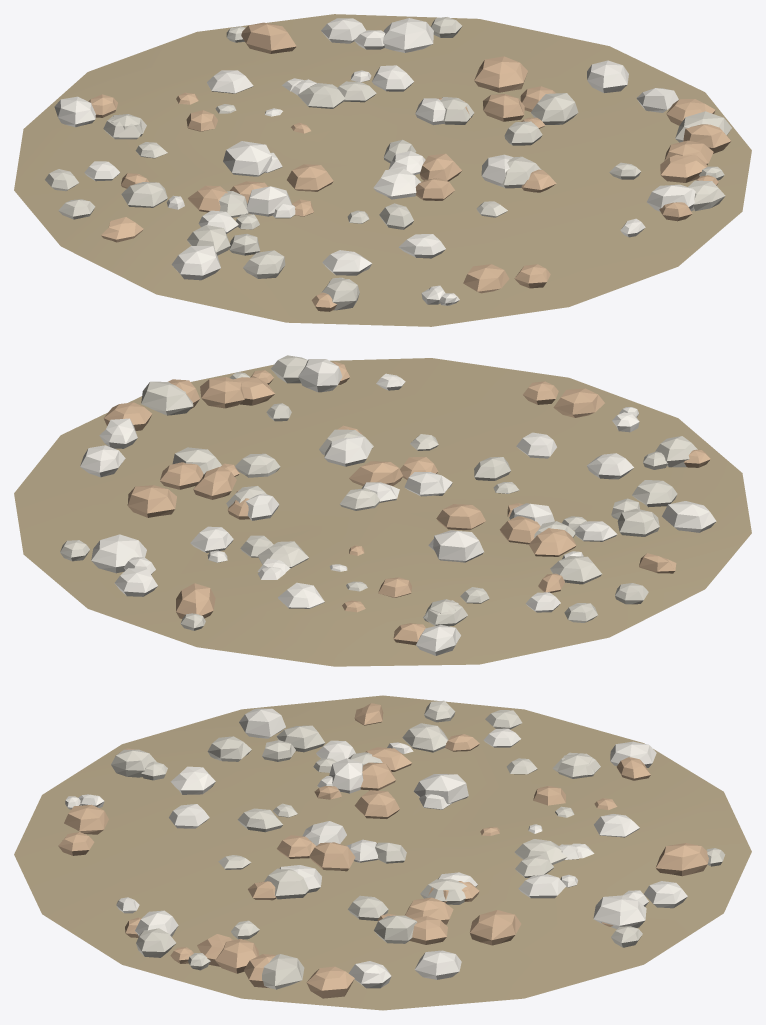
Rendered from lake-quartz-shallows-0.glb.
The picture shows the model from 3 angles, top to bottom: view 1: azimuth 30°, elevation 25°; view 2: azimuth 150°, elevation 25°; view 3: azimuth 270°, elevation 25°; orthographic projection.
Parts seen in each view (by area): view 1: lake-quartz-shallows-0; view 2: lake-quartz-shallows-0; view 3: lake-quartz-shallows-0.
Part boxes in pixels (box(x1,y1,x2,y2)): lake-quartz-shallows-0: box(14, 14, 751, 326); lake-quartz-shallows-0: box(14, 355, 751, 666); lake-quartz-shallows-0: box(14, 695, 751, 1010).
Size of the model in its own units: 2 by 0.102 by 2.
